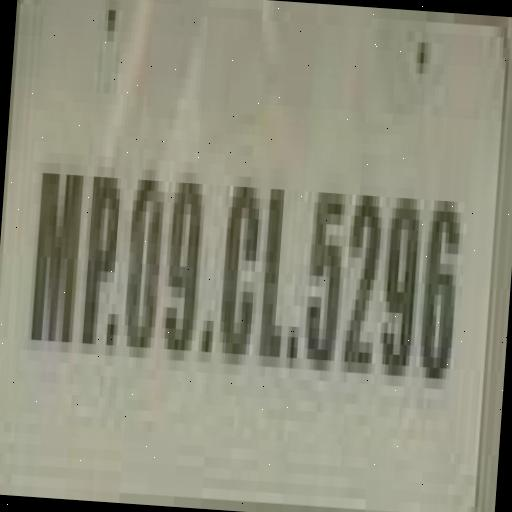number plate: (0, 14, 503, 486)
